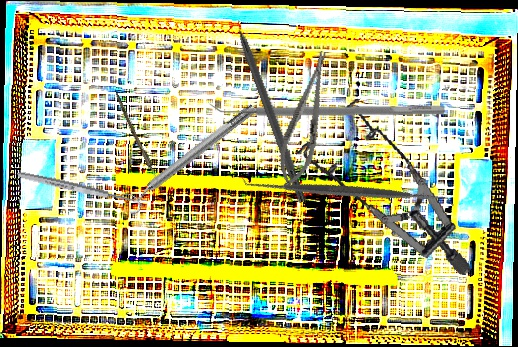Fixation Ring: (117, 97, 263, 218)
Hook Surgical: (226, 4, 310, 204)
Needle Holder: (270, 47, 342, 192)
Spatula Surgical: (240, 85, 456, 298), (207, 95, 446, 120)
Speculum: (285, 83, 474, 303)
Surgical Spoon: (112, 92, 167, 195), (17, 169, 146, 209)
